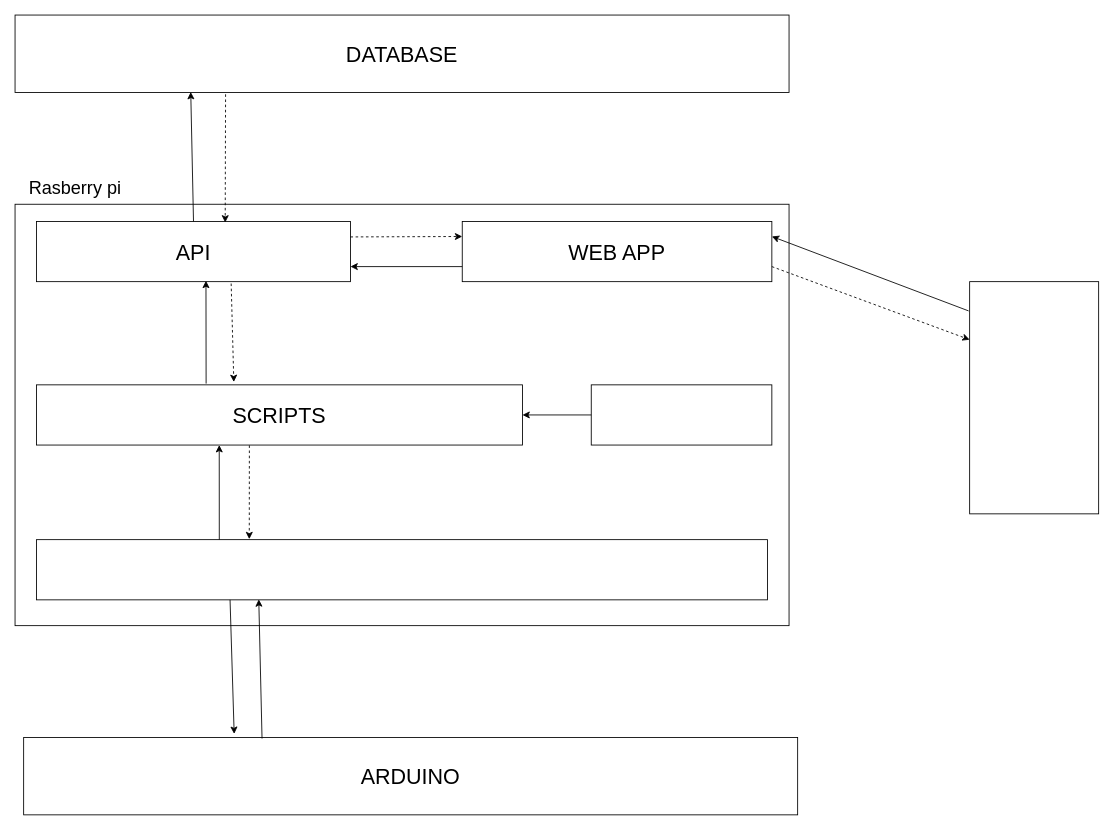
Image size: 1114x830. Some labels were removed from this diagram. Here are the shapes that lost their labels. From the top down, the centre of each, then its label:
(681,414): CAMERA
(1034,397): PHONE
(402,569): ROBOT CONTROLLER
